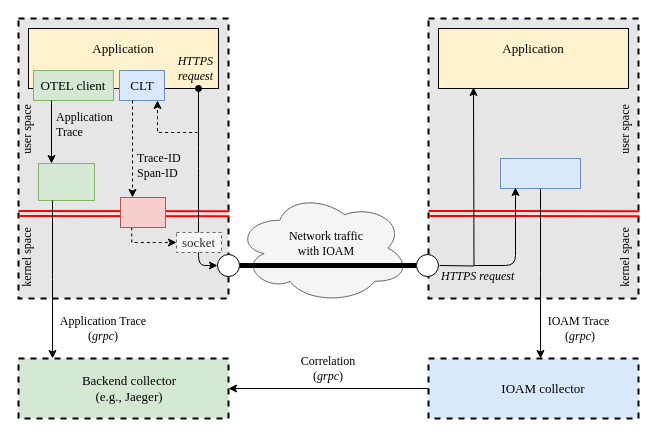
Some shapes in this 657 by 436 pixel diagram are drawn without their labels. Here are the shapes that lost their labels. From the top down, the centre of each, then its label:
(x=66, y=181): OTEL exporter
(x=540, y=173): IOAM agent
(x=143, y=212): Netlink
